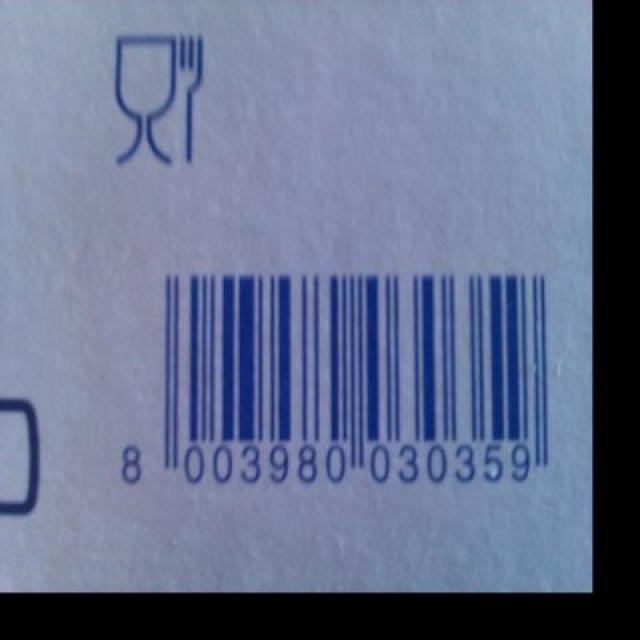Barcode: (105, 246, 571, 506)
